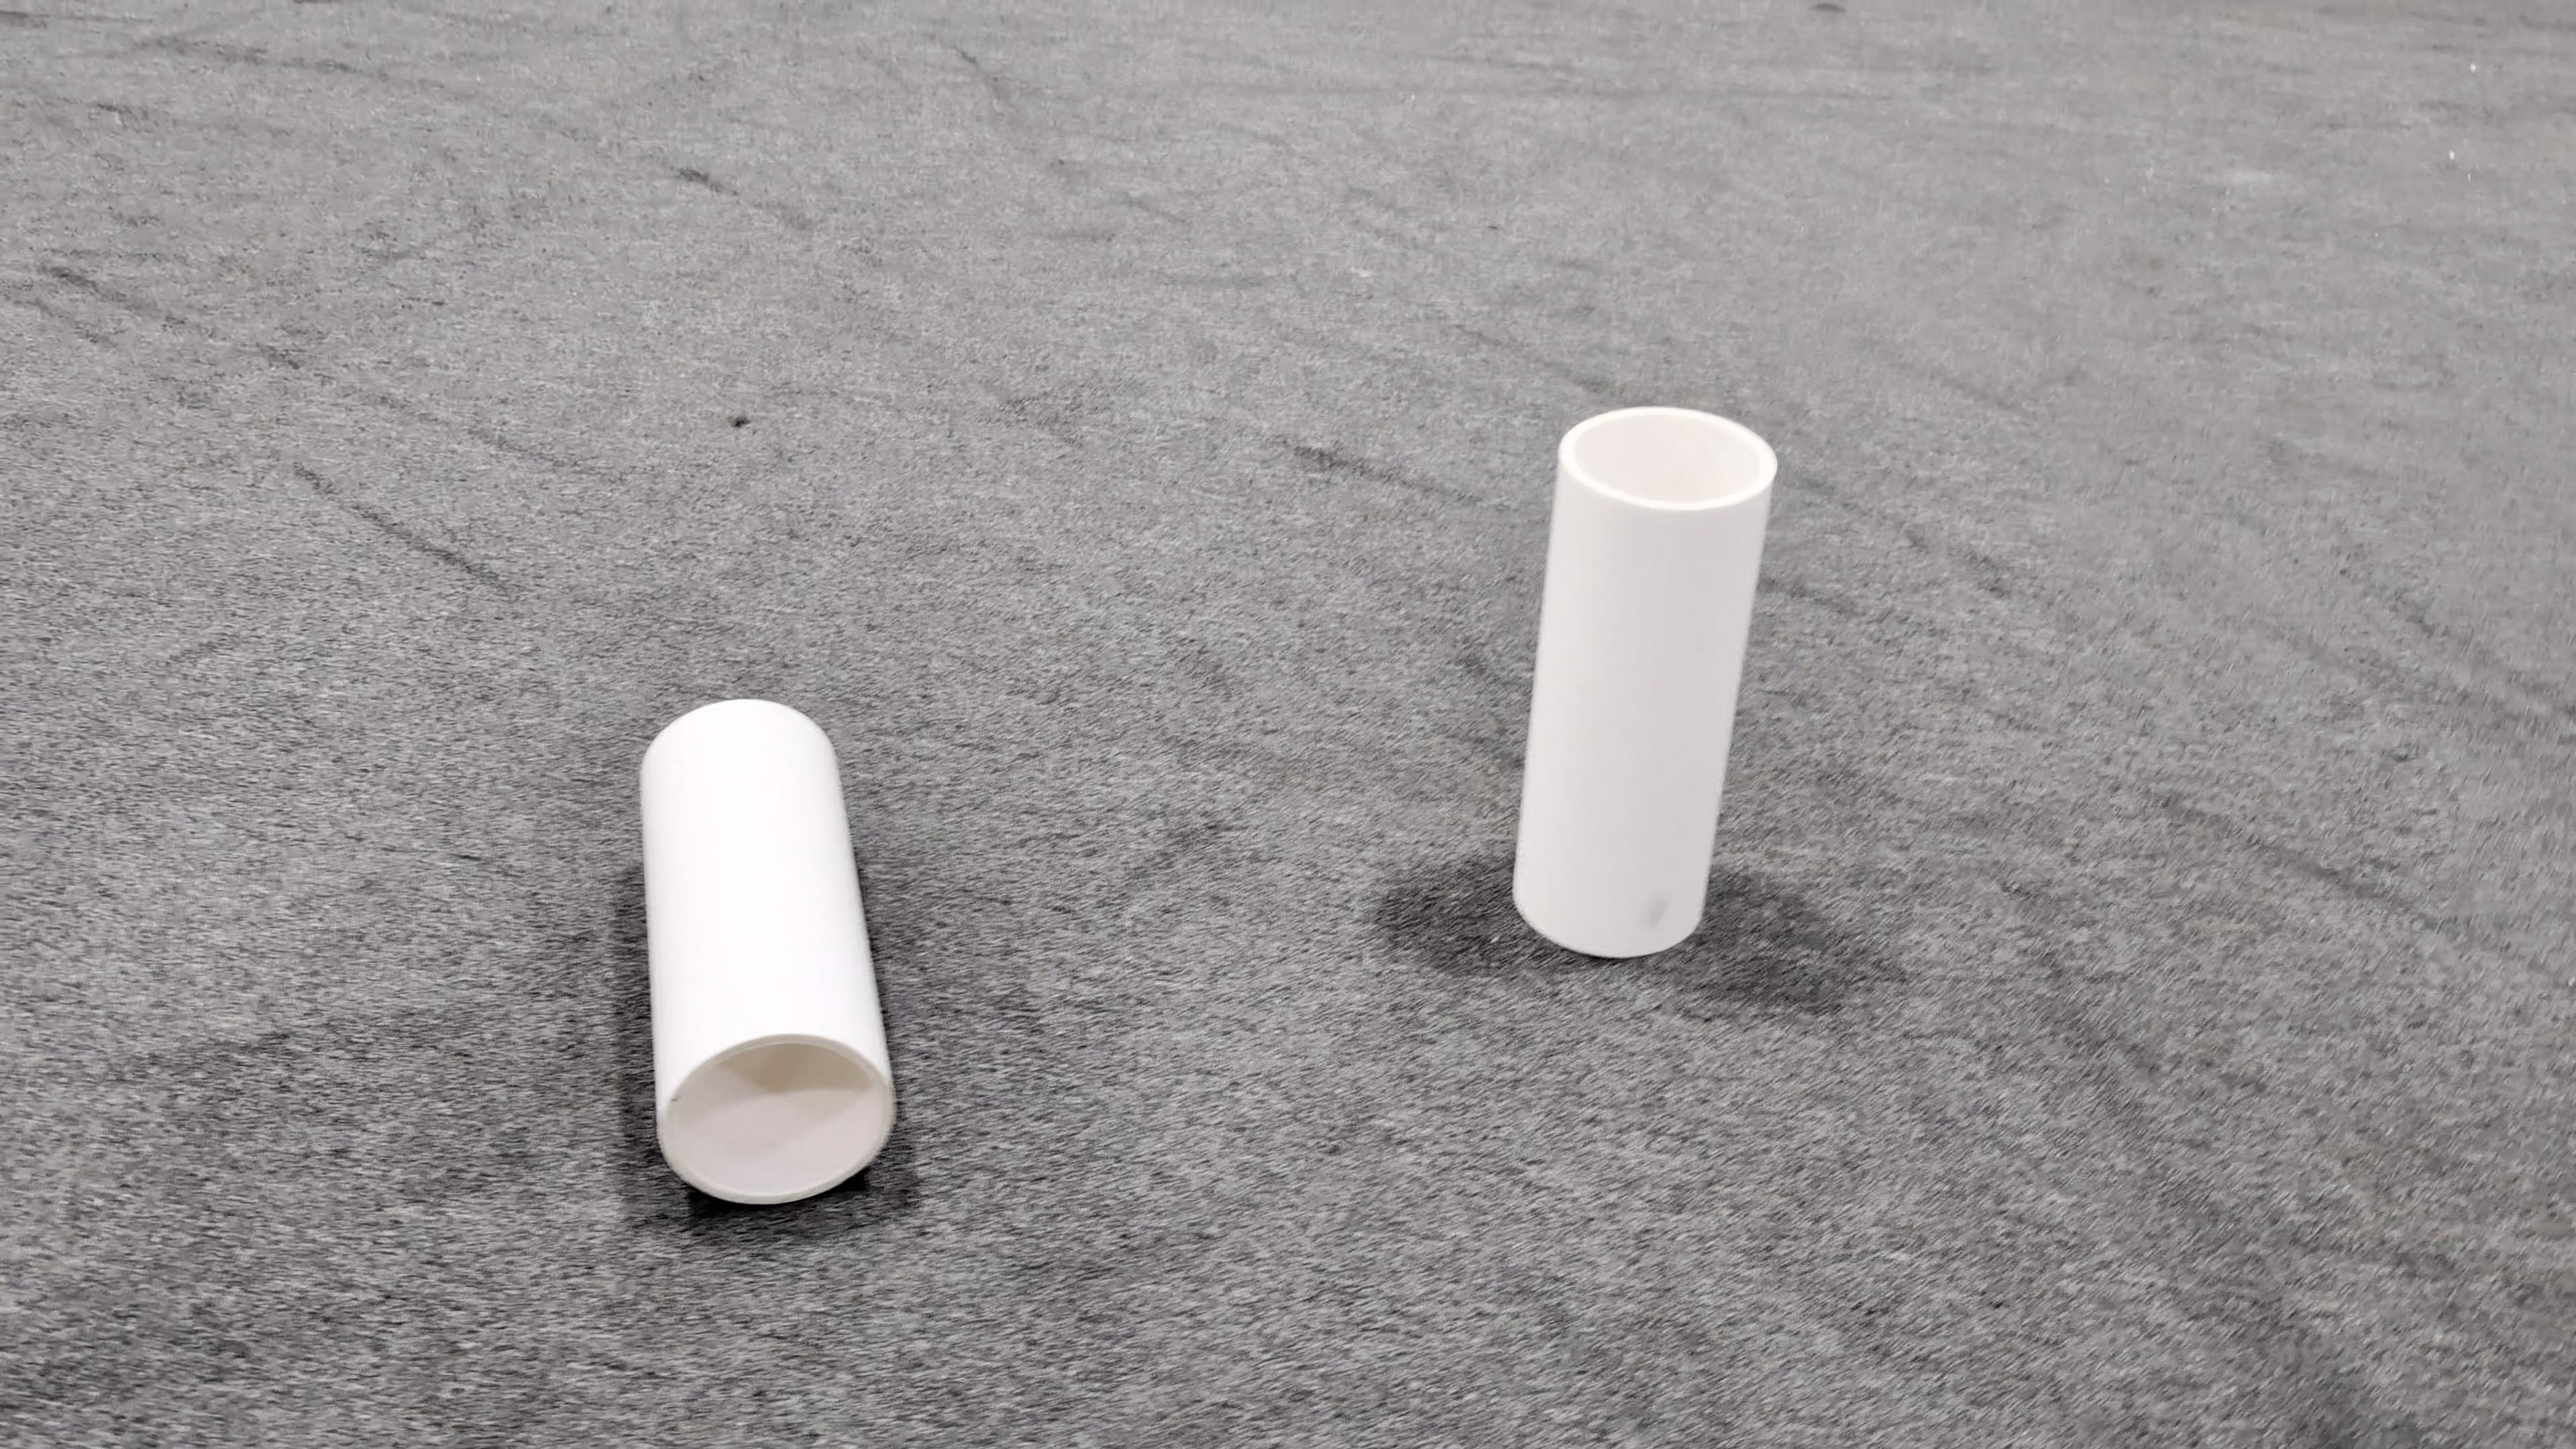coral: (1506, 405, 1778, 957), (637, 697, 899, 1205)
